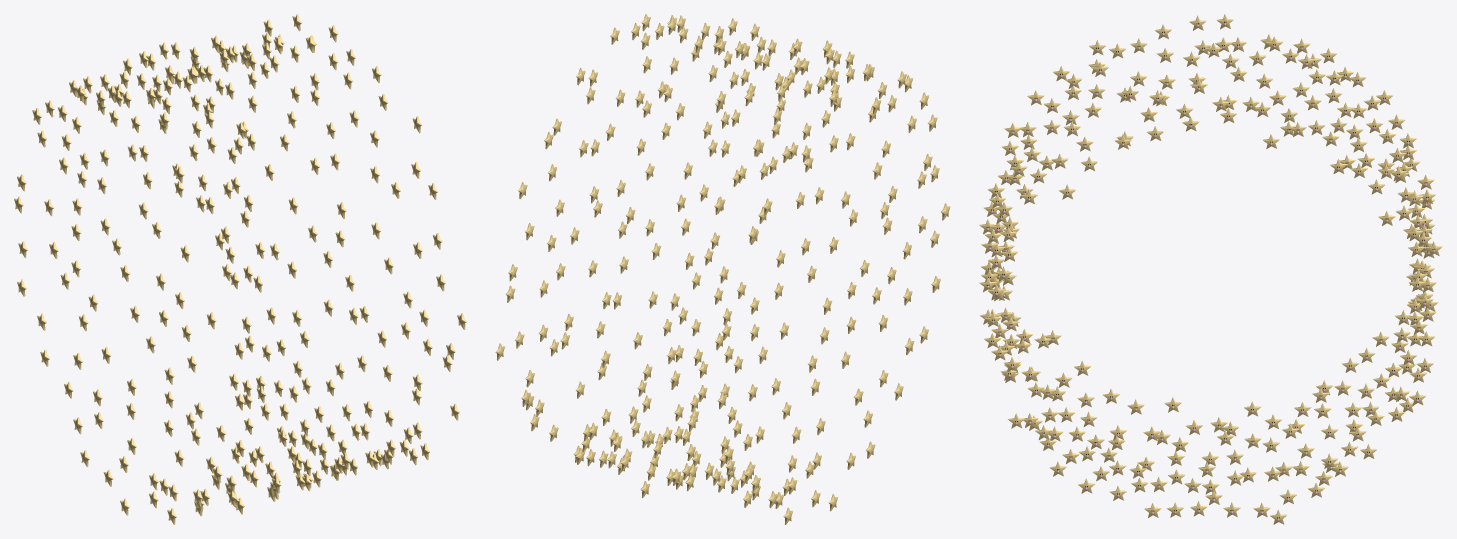
The model's file is stars_third_anim.glb.
3 renders of one model, left to right at view 1: azimuth 30°, elevation 25°; view 2: azimuth 150°, elevation 25°; view 3: azimuth 270°, elevation 25°, orthographic.
Bounding box in the file's own units: 5.37 × 9.45 × 9.1.
